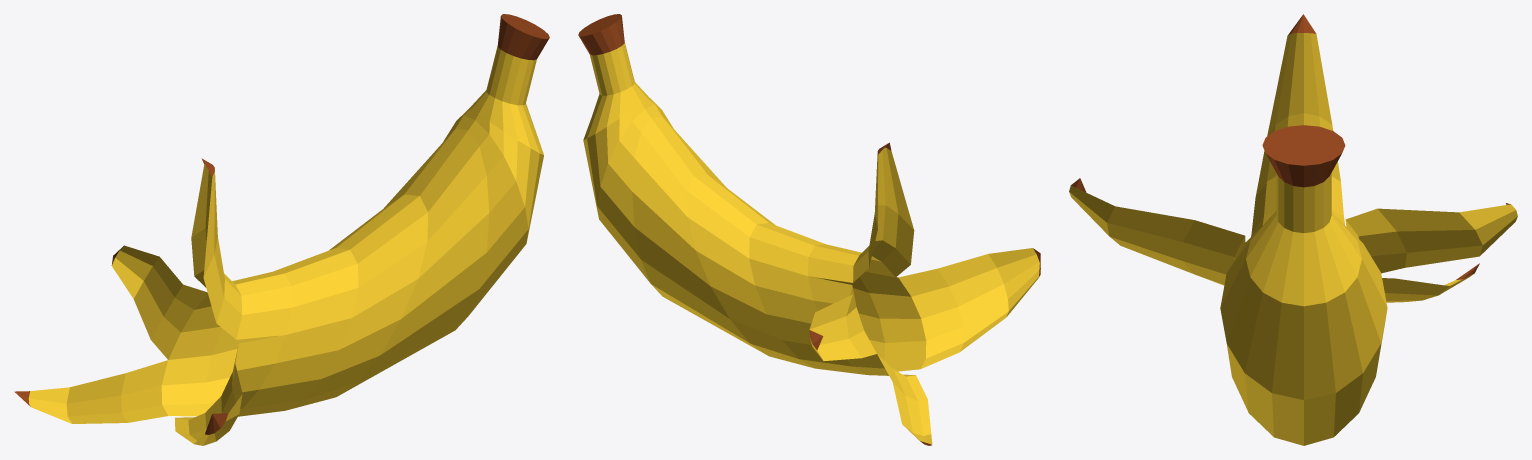
The model's file is banana casca aberta.fbx.
3 views of the same model, side by side, from view 1: azimuth 30°, elevation 25°; view 2: azimuth 150°, elevation 25°; view 3: azimuth 270°, elevation 25° (orthographic). The views are drawn at different scales.
Parts seen in each view (by area): view 1: Cylinder.001; view 2: Cylinder.001; view 3: Cylinder.001.
Part boxes in pixels (left/top/right/bottom): Cylinder.001: left=14, top=14, right=549, bottom=445; Cylinder.001: left=578, top=14, right=1040, bottom=445; Cylinder.001: left=1069, top=14, right=1517, bottom=445.
Bounding box in the file's own units: 426 × 297 × 291.
